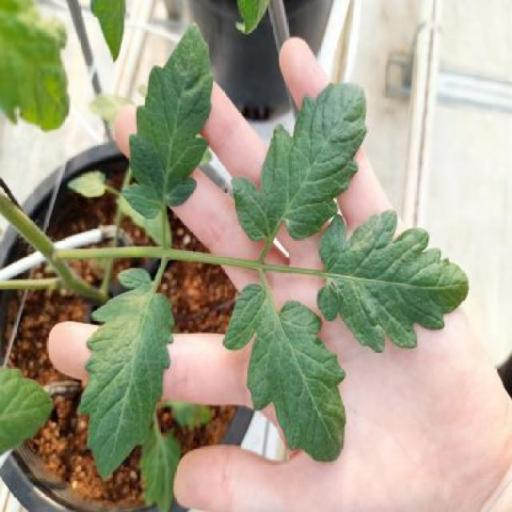Healthy: (232, 82, 367, 242), (224, 284, 346, 461), (318, 210, 468, 350), (78, 268, 176, 480), (122, 23, 214, 220)
